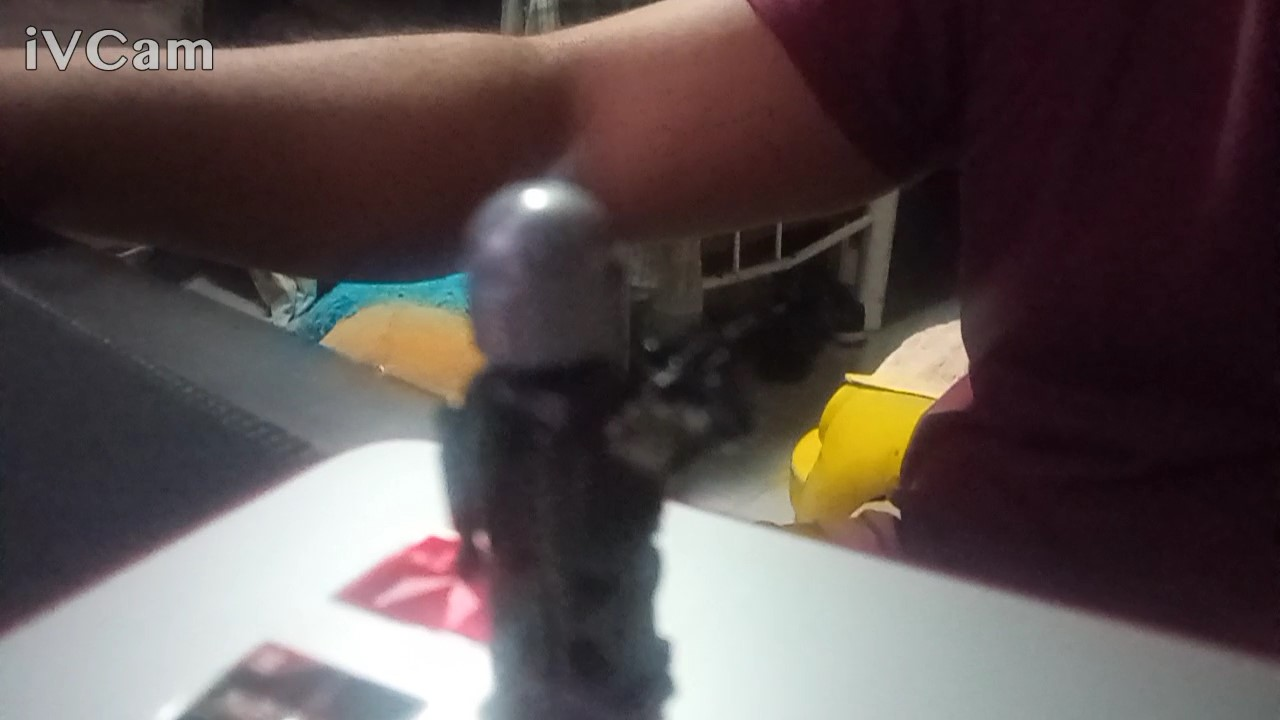mandalorian: (414, 173, 763, 719)
